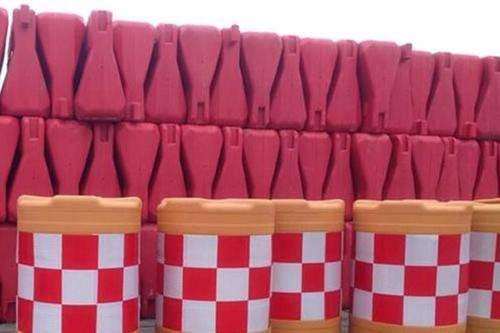cone_barrel: (12, 192, 142, 331), (350, 197, 470, 329), (154, 197, 272, 328), (272, 196, 342, 330), (468, 195, 498, 330)
